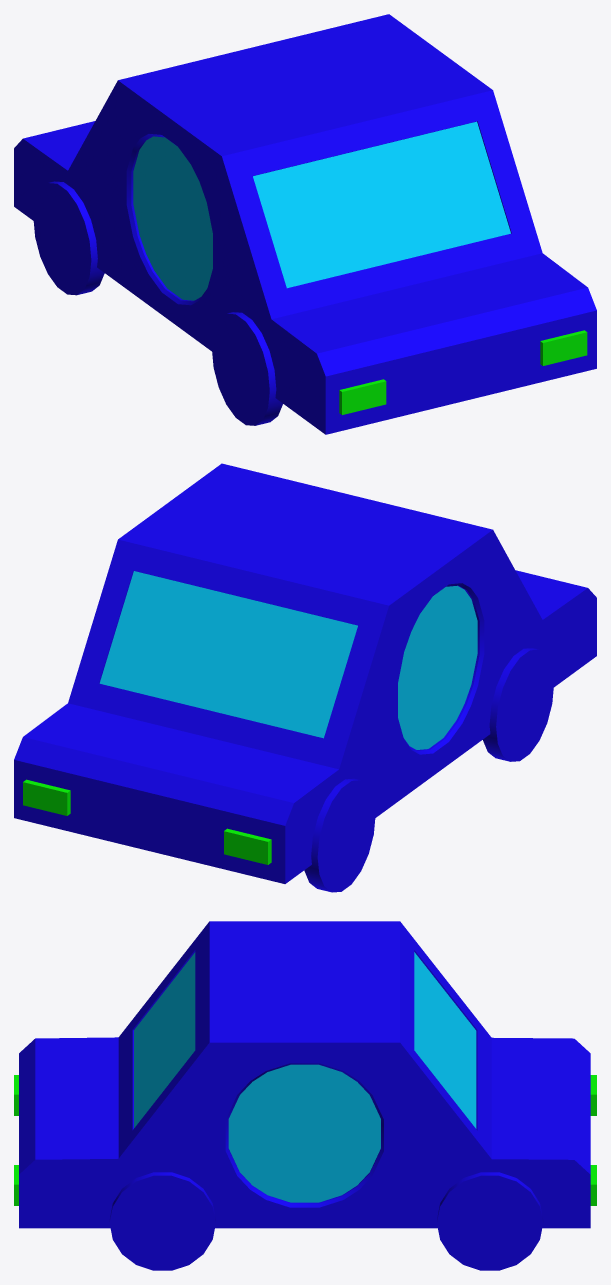
File: Car.FBX
The picture shows the model from 3 angles, top to bottom: view 1: azimuth 30°, elevation 25°; view 2: azimuth 150°, elevation 25°; view 3: azimuth 270°, elevation 25°; orthographic projection. The views are drawn at different scales.
Visible parts, largest first — view 1: Car; view 2: Car; view 3: Car.
Part boxes in pixels (<box>): Car: <box>14,14,596,434</box>; Car: <box>14,463,596,892</box>; Car: <box>14,921,596,1270</box>.
Size of the model in its own units: 288 by 236 by 556.
